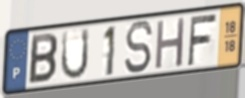1: (103, 23, 117, 78)
B: (27, 31, 59, 86)
F: (186, 12, 219, 68)
H: (153, 16, 187, 73)
S: (123, 19, 155, 76)
U: (59, 26, 91, 82)
